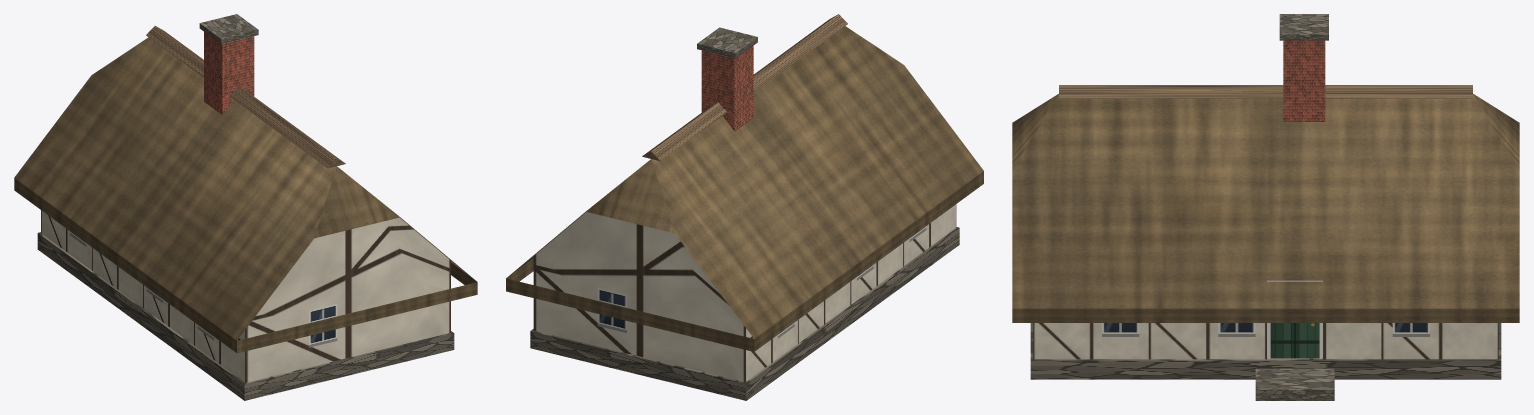
File: SM_Cottage.fbx
3 views of the same model, side by side, from view 1: azimuth 30°, elevation 25°; view 2: azimuth 150°, elevation 25°; view 3: azimuth 270°, elevation 25° (orthographic). The views are drawn at different scales.
Parts seen in each view (by area): view 1: SM_Cottage; view 2: SM_Cottage; view 3: SM_Cottage.
Boxes of the visible parts, left/top/right/bottom form: SM_Cottage: left=14, top=14, right=477, bottom=400; SM_Cottage: left=506, top=14, right=983, bottom=400; SM_Cottage: left=1012, top=14, right=1519, bottom=400.
Bounding box in the file's own units: 745 × 1090 × 704.
Materials: 1 (1 with a texture image).
